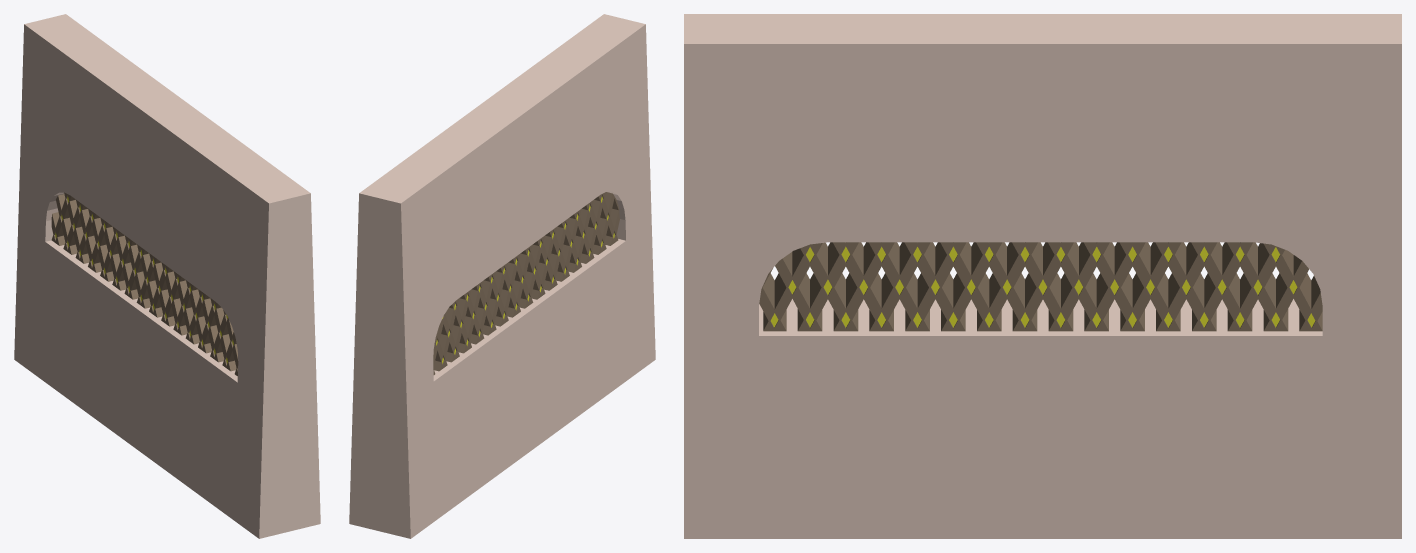
The model's file is DustCity_InnerWallsWindowed.fbx.
The picture shows the model from 3 angles, left to right: view 1: azimuth 30°, elevation 25°; view 2: azimuth 150°, elevation 25°; view 3: azimuth 270°, elevation 25°; orthographic projection. The views are drawn at different scales.
Parts seen in each view (by area): view 1: DCInnerWall_Windowed, InnerWallWindows; view 2: DCInnerWall_Windowed, InnerWallWindows; view 3: DCInnerWall_Windowed, InnerWallWindows.
Boxes of the visible parts, <box> form: DCInnerWall_Windowed: <box>14,14,320,538</box>; InnerWallWindows: <box>51,192,238,376</box>; DCInnerWall_Windowed: <box>349,14,655,538</box>; InnerWallWindows: <box>433,192,619,374</box>; DCInnerWall_Windowed: <box>684,14,1401,538</box>; InnerWallWindows: <box>759,242,1322,331</box>.
Bounding box in the file's own units: 14.51 × 75 × 100.
